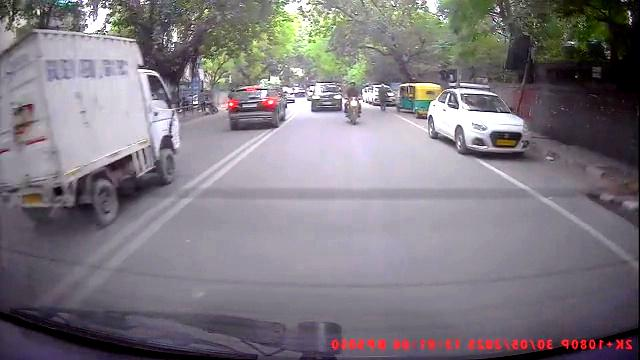motorcycle_without_helmet: (343, 80, 363, 126)
